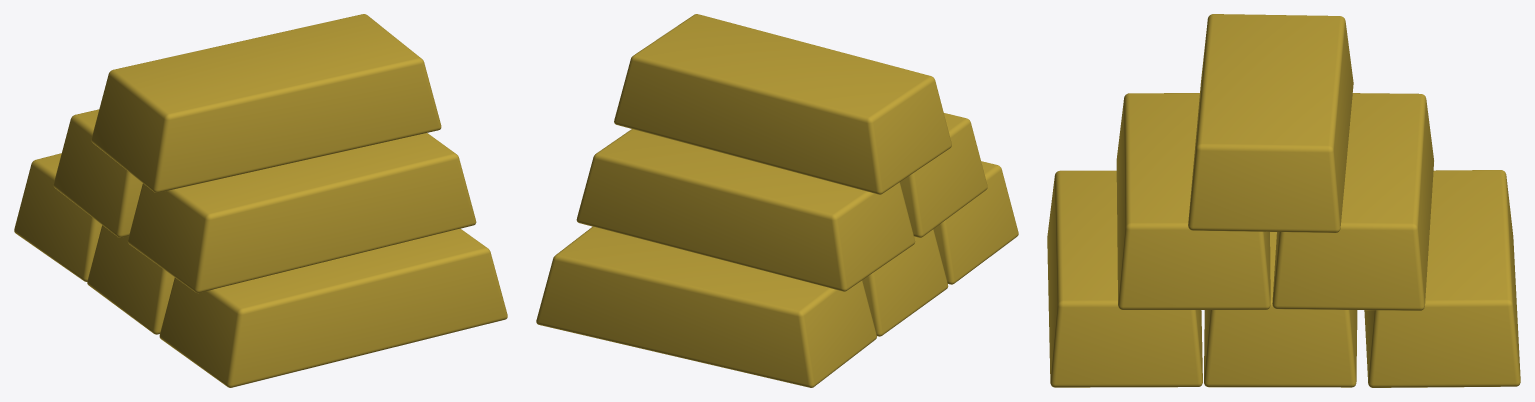
File: Gold_Large_Pile.fbx
3 views of the same model, side by side, from view 1: azimuth 30°, elevation 25°; view 2: azimuth 150°, elevation 25°; view 3: azimuth 270°, elevation 25° (orthographic). The views are drawn at different scales.
Visible parts, largest first — view 1: Cube.005; view 2: Cube.005; view 3: Cube.005.
Part boxes in pixels (bbox=[...]): Cube.005: bbox=[14, 14, 507, 387]; Cube.005: bbox=[536, 14, 1018, 387]; Cube.005: bbox=[1047, 14, 1520, 387].
Bounding box in the file's own units: 20.39 × 14.73 × 26.99.
